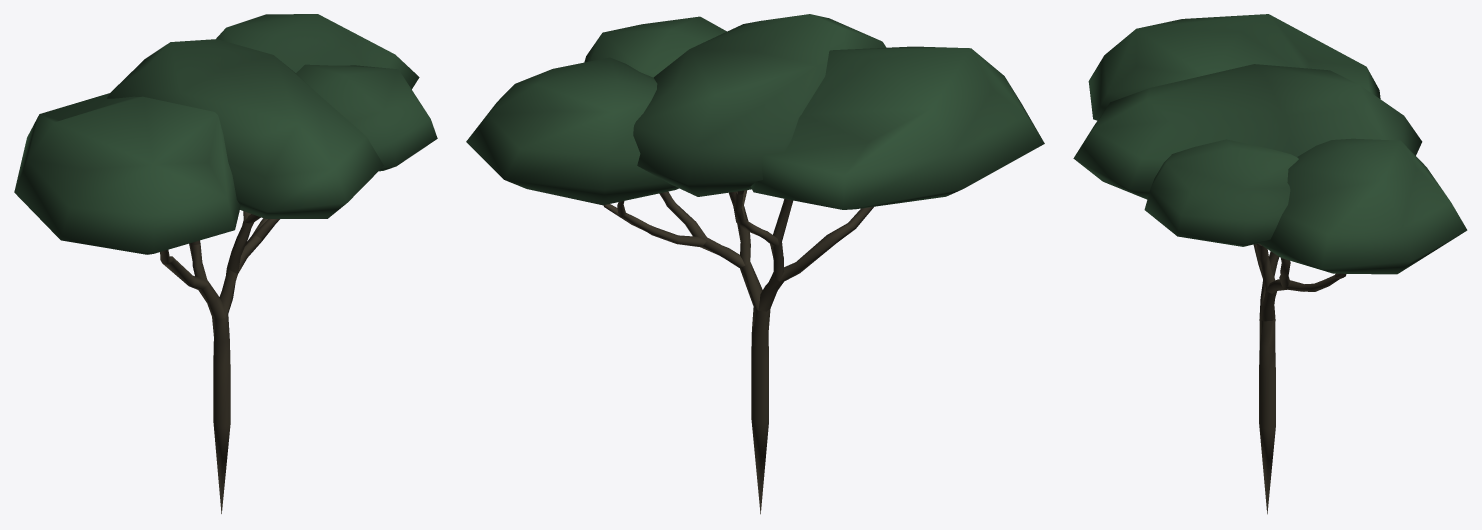
The model's file is trees-broadleaf-trees-acacia-tree_v2.fbx.
3 views of the same model, side by side, from view 1: azimuth 30°, elevation 25°; view 2: azimuth 150°, elevation 25°; view 3: azimuth 270°, elevation 25° (orthographic). The views are drawn at different scales.
Parts seen in each view (by area): view 1: Acacia Tree_v2; view 2: Acacia Tree_v2; view 3: Acacia Tree_v2.
Part boxes in pixels (x1,y1,x2,y2): Acacia Tree_v2: [14, 14, 437, 513]; Acacia Tree_v2: [466, 14, 1044, 514]; Acacia Tree_v2: [1073, 14, 1467, 514].
Bounding box in the file's own units: 10 × 9.74 × 7.9.
